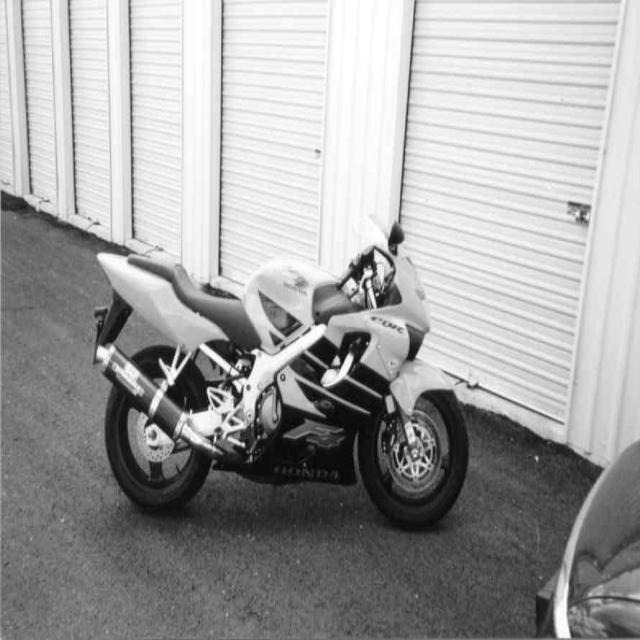Motorcycle: (94, 223, 470, 528)
